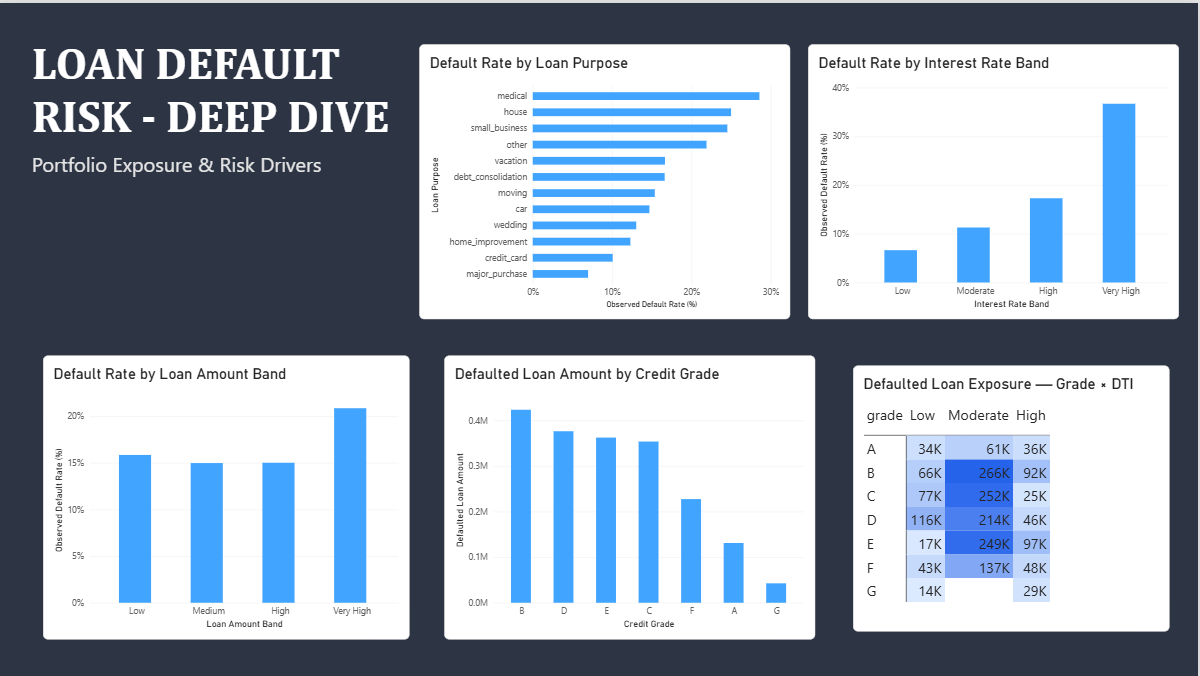

The page's visual inventory and layout, read from the dashboard file:
{"tool":"powerbi","page":{"name":"Page 2","canvas":[1920,1080],"ordinal":1},"visuals":[{"type":"clusteredColumnChart","title":"Default Rate by Interest Rate Band","fields":{"Category":["loan_risk_analysis loan_data.Interest Rate Band"],"Y":["loan_risk_analysis loan_data.Observed Default Rate"]},"box":[1295.7,67,593.6,439.7],"z":0},{"type":"clusteredBarChart","title":"Default Rate by Loan Purpose","fields":{"Category":["loan_risk_analysis loan_data.purpose"],"Y":["loan_risk_analysis loan_data.Observed Default Rate"]},"box":[673.2,67,593.6,439.7],"z":1000},{"type":"clusteredColumnChart","title":"Default Rate by Loan Amount Band","fields":{"Category":["loan_risk_analysis loan_data.Loan Amount Band"],"Y":["loan_risk_analysis loan_data.Observed Default Rate"]},"box":[72.4,564.6,586.3,454.2],"z":2000},{"type":"textbox","box":[54.3,52.5,586.3,175.5],"z":2001},{"type":"textbox","box":[54.3,235.3,474.1,52.5],"z":2002},{"type":"pivotTable","title":"Defaulted Loan Exposure — Grade × DTI","fields":{"Columns":["loan_risk_analysis loan_data.DTI Band"],"Rows":["loan_risk_analysis loan_data.grade"],"Values":["loan_risk_analysis loan_data.Defaulted Loan Amount (K)"]},"box":[1368.1,579.1,506.7,425.3],"z":2003},{"type":"clusteredColumnChart","title":"Defaulted Loan Amount by Credit Grade","fields":{"Category":["loan_risk_analysis loan_data.grade"],"Y":["loan_risk_analysis loan_data.Defaulted Loan Amount"]},"box":[714.8,564.6,593.6,454.2],"z":2004}]}

Visuals, with their boxes in screenshot pixels (x1, y1, x2, y2), scaled from the page's 1920x1080 canvas onto the 1200x676 screenshot:
"Default Rate by Interest Rate Band" clusteredColumnChart: [x1=810, y1=42, x2=1181, y2=317]
"Default Rate by Loan Purpose" clusteredBarChart: [x1=421, y1=42, x2=792, y2=317]
"Default Rate by Loan Amount Band" clusteredColumnChart: [x1=45, y1=353, x2=412, y2=638]
textbox: [x1=34, y1=33, x2=400, y2=143]
textbox: [x1=34, y1=147, x2=330, y2=180]
"Defaulted Loan Exposure — Grade × DTI" pivotTable: [x1=855, y1=362, x2=1172, y2=629]
"Defaulted Loan Amount by Credit Grade" clusteredColumnChart: [x1=447, y1=353, x2=818, y2=638]
